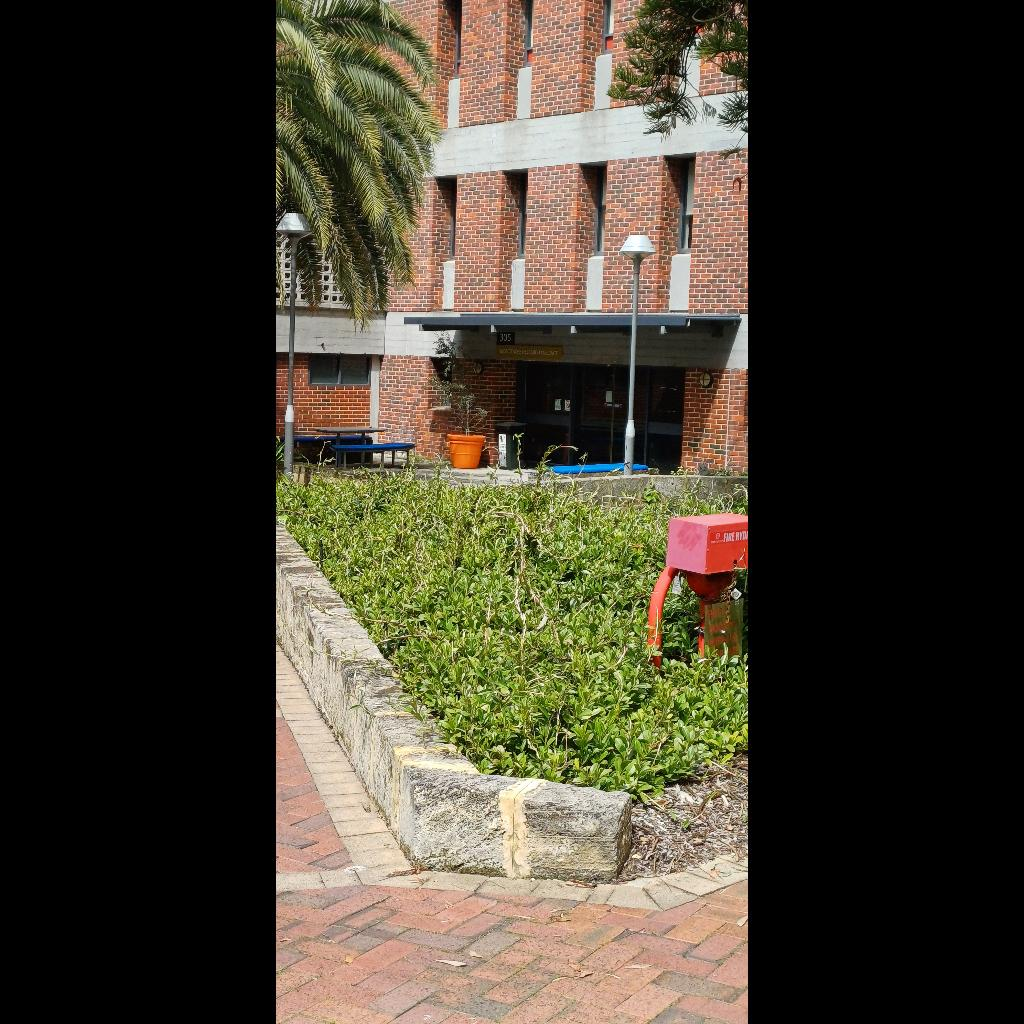BuildingCodes: (498, 332, 512, 344)
